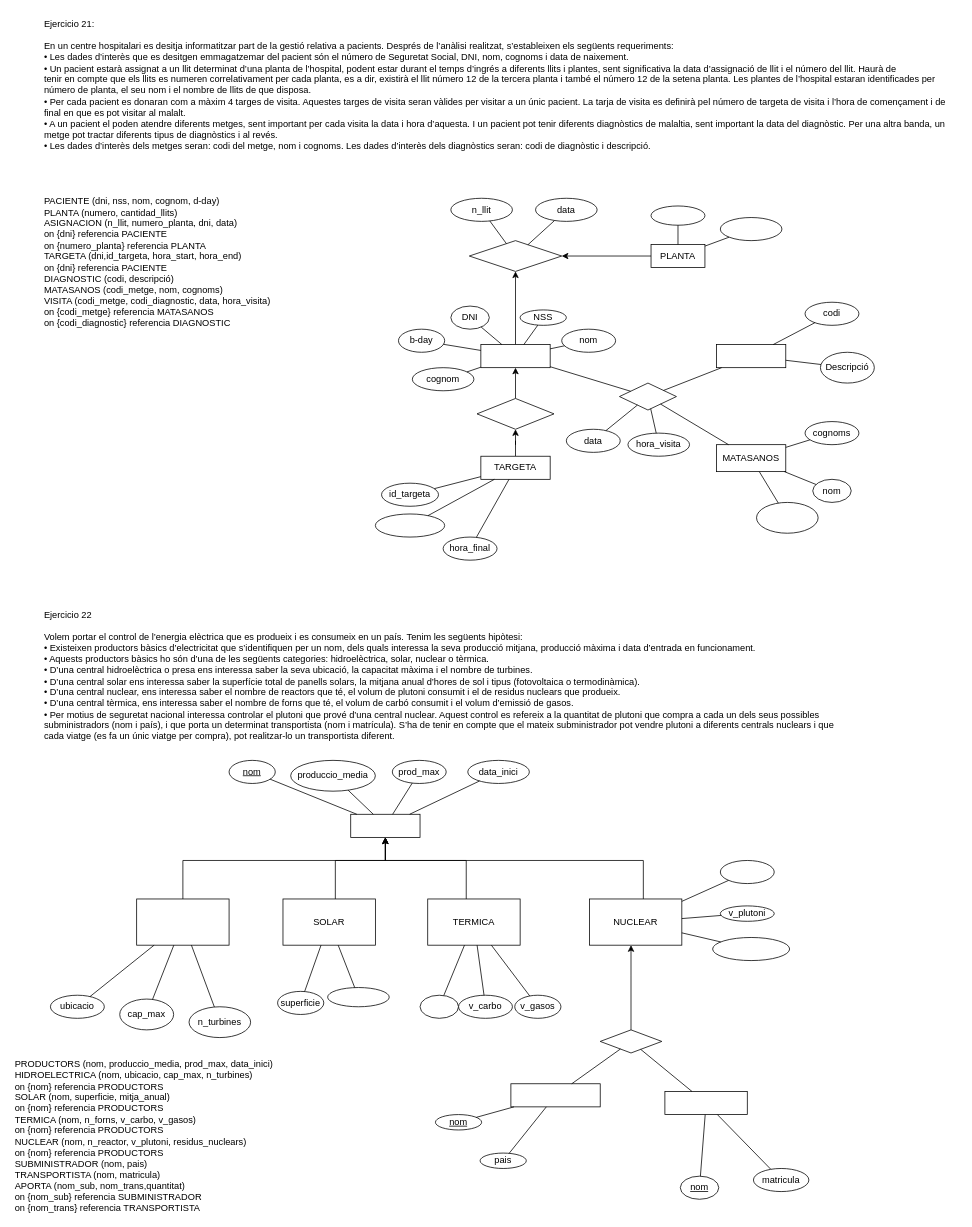
Some shapes in this 972 by 1227 pixel diagram are drawn without their labels. The centre of each missing label's shape, as x and y in pixels:
APORTA: (x=630, y=1041)
ASIGNACION: (x=515, y=255)
cantidad_llits: (x=751, y=229)
codi_metge: (x=787, y=517)
DIAGNOSTIC: (x=751, y=356)
HIDROELECTRICA: (x=182, y=921)
hora_start: (x=410, y=525)
mitja_anual: (x=358, y=997)
n_forns: (x=439, y=1006)
n_reactor: (x=747, y=872)
numero: (x=677, y=215)
PACIENTE: (x=515, y=356)
PERTANY: (x=515, y=413)
PRODUCTORS: (x=385, y=825)
residus_nuclear: (x=751, y=949)
SUBMINISTRADOR: (x=555, y=1095)
TRANSPORTISTA: (x=705, y=1103)
VISITA: (x=647, y=396)
